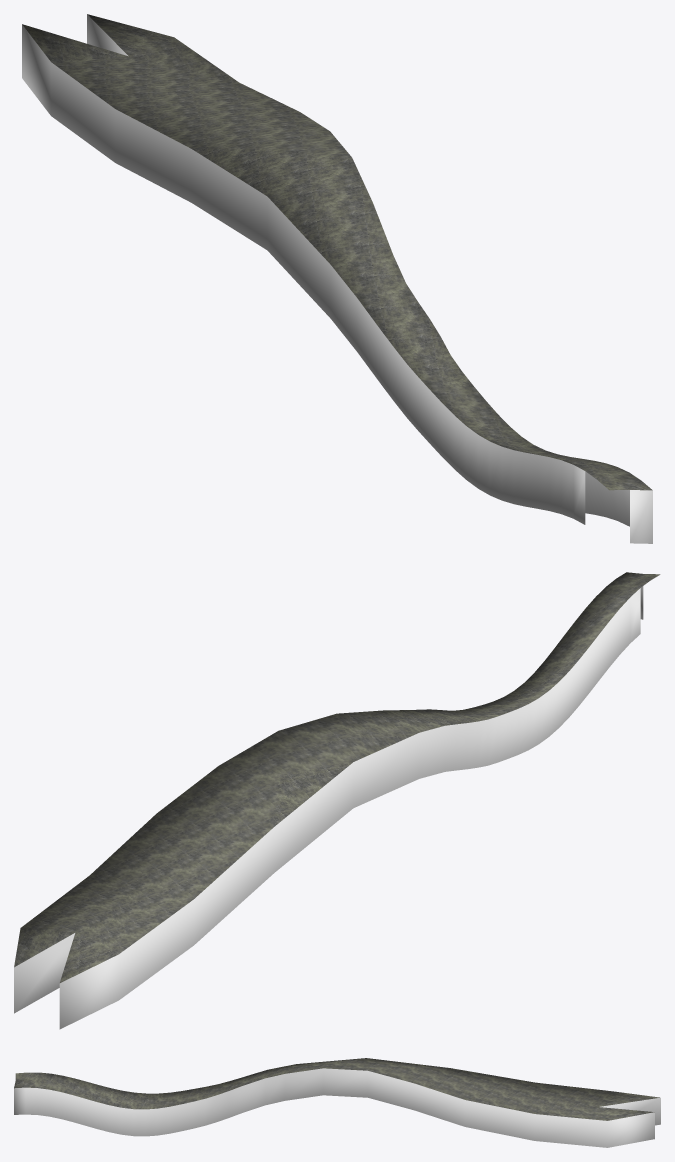
Rendered from road.fbx.
The picture shows the model from 3 angles, top to bottom: view 1: azimuth 30°, elevation 25°; view 2: azimuth 150°, elevation 25°; view 3: azimuth 270°, elevation 25°; orthographic projection. The views are drawn at different scales.
Visible parts, largest first — view 1: Plane_388; view 2: Plane_388; view 3: Plane_388.
Boxes of the visible parts, box(x1,y1,x2,y2) form: Plane_388: box(22, 14, 652, 543); Plane_388: box(14, 572, 660, 1029); Plane_388: box(14, 1058, 660, 1147).
Bounding box in the file's own units: 130 × 125 × 932.
Materials: 2 (1 with a texture image).
